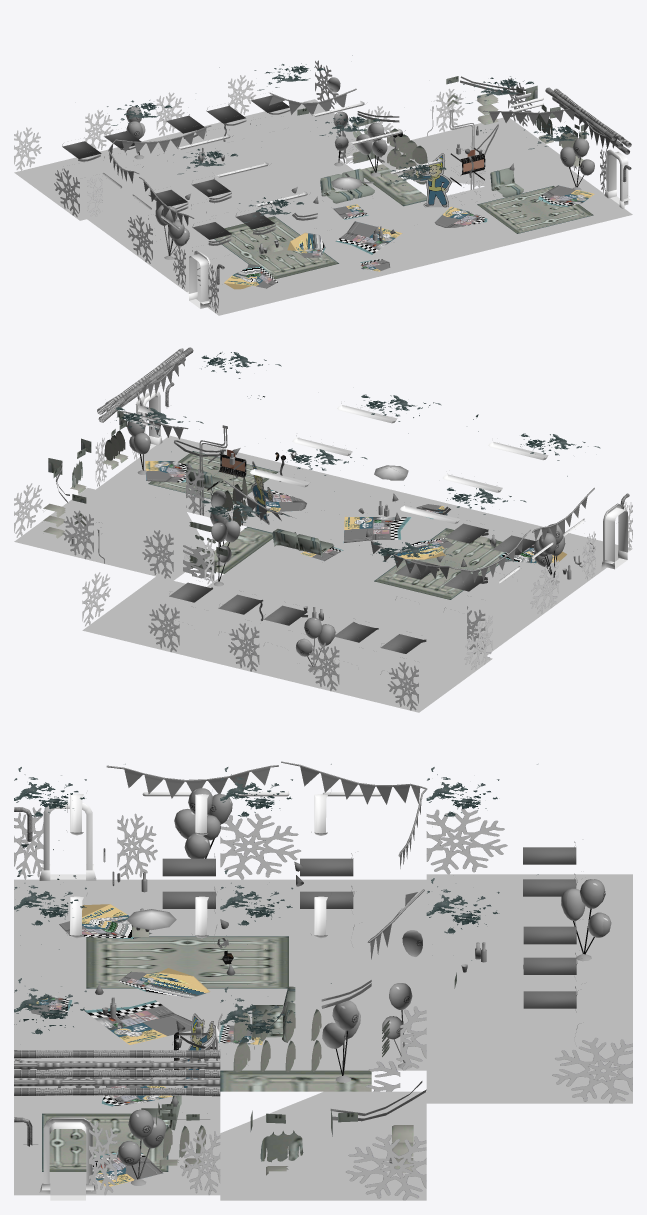
Rendered from MSH_LivingQuarters_L3_R3_AnniversaryParty_optimized.fbx.
3 renders of one model, top to bottom at view 1: azimuth 30°, elevation 25°; view 2: azimuth 150°, elevation 25°; view 3: azimuth 270°, elevation 25°, orthographic. The views are drawn at different scales.
Visible parts, largest first — view 1: lightmap2, lightmap1, lightmap0, MSH_LivingQuarters_L3_R3_PartyObjects02; view 2: lightmap2, lightmap1, lightmap0, MSH_LivingQuarters_L3_R3_PartyObjects02; view 3: lightmap2, lightmap0, lightmap1, MSH_LivingQuarters_L3_R3_PartyObjects02.
Boxes of the visible parts, x1=… form: lightmap2: x1=14, y1=55, x2=632, y2=315; lightmap1: x1=78, y1=76, x2=628, y2=308; lightmap0: x1=62, y1=76, x2=631, y2=285; MSH_LivingQuarters_L3_R3_PartyObjects02: x1=224, y1=185, x2=594, y2=289; lightmap2: x1=14, y1=352, x2=632, y2=712; lightmap1: x1=56, y1=348, x2=627, y2=672; lightmap0: x1=43, y1=347, x2=629, y2=674; MSH_LivingQuarters_L3_R3_PartyObjects02: x1=145, y1=461, x2=566, y2=563; lightmap2: x1=14, y1=764, x2=632, y2=1200; lightmap0: x1=14, y1=794, x2=578, y2=1175; lightmap1: x1=15, y1=761, x2=611, y2=1200; MSH_LivingQuarters_L3_R3_PartyObjects02: x1=29, y1=904, x2=262, y2=1186.
Size of the model in its own units: 30.91 by 6.22 by 24.77.
